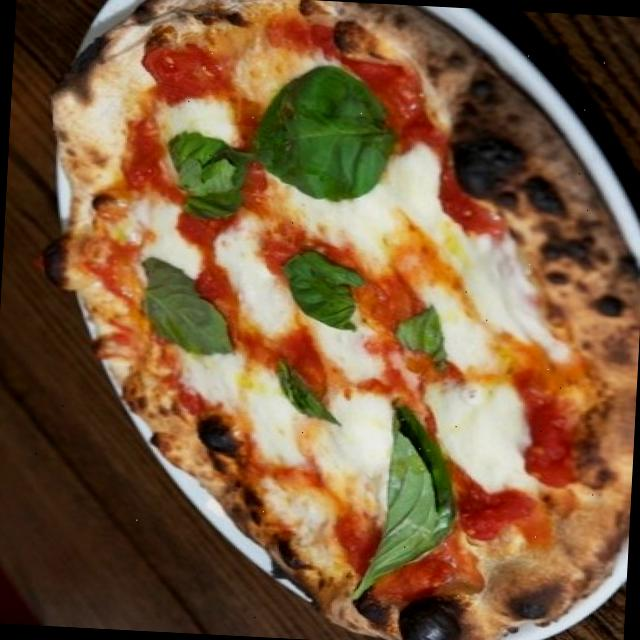basil: (344, 407, 474, 594), (250, 74, 400, 190), (152, 120, 275, 230), (122, 264, 240, 358), (259, 243, 382, 333), (254, 348, 358, 426), (374, 297, 460, 367)
pizza: (46, 0, 638, 640)
